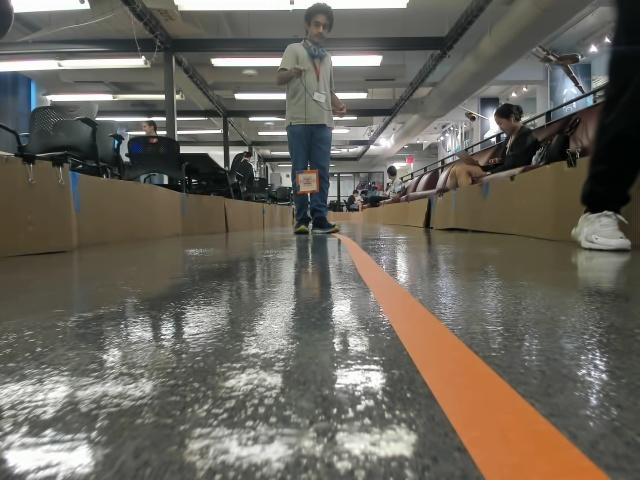Do Not Go Around: (300, 176, 315, 186)
